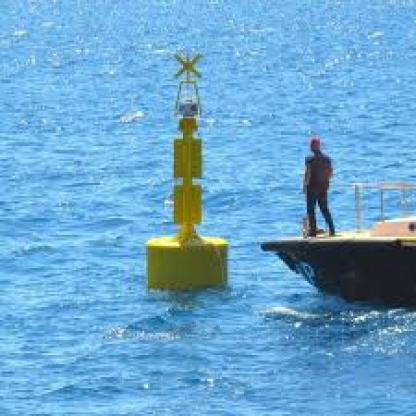buoy: (136, 42, 236, 298)
